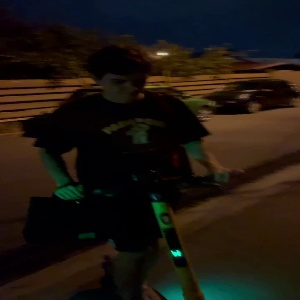human on a scooter: (23, 33, 243, 300)
